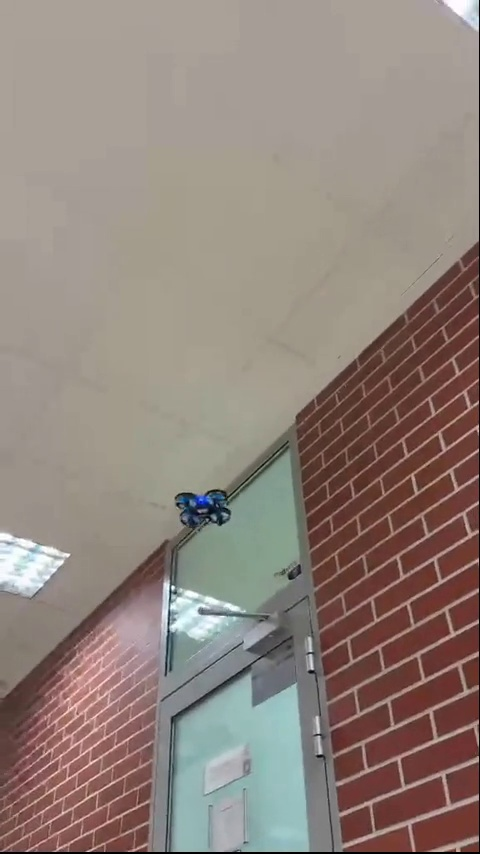drone: (173, 490, 234, 529)
